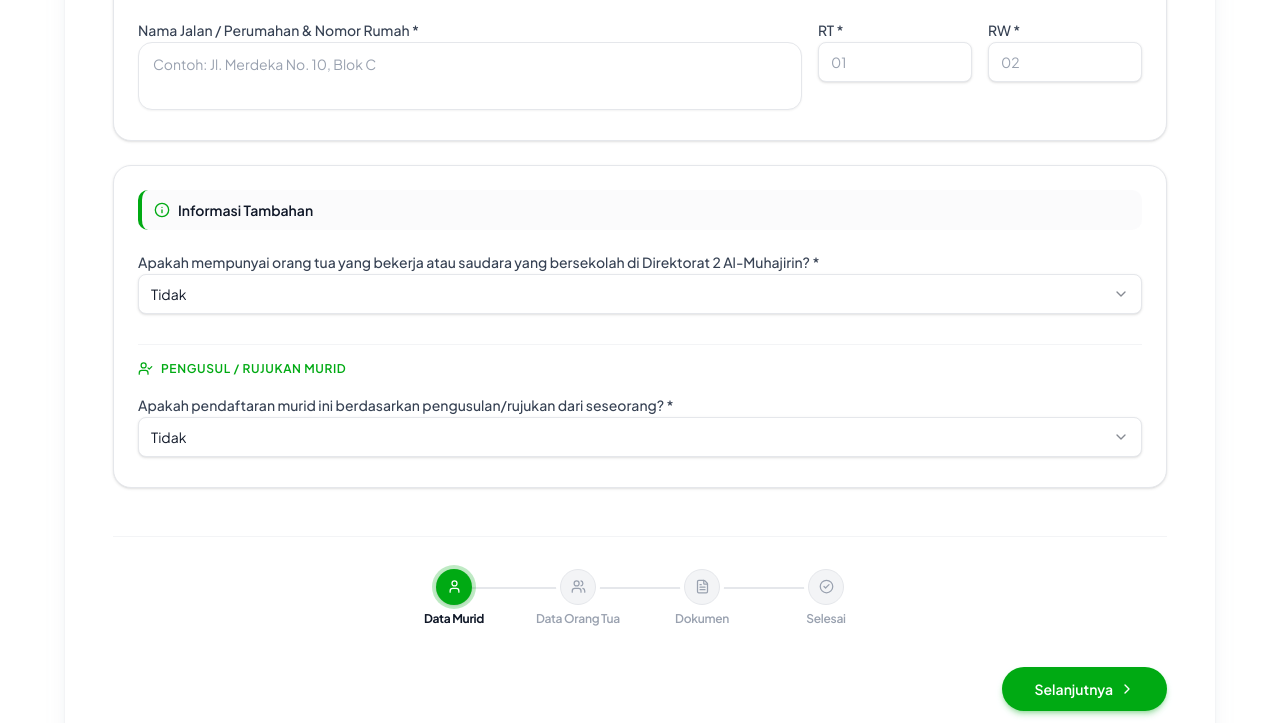
Test: RegistrationForm validation feedback › removes the date warning after a valid calendar date is selected
The width and height of the screenshot is (1280, 723).
(page scrolled)
Click the button "Selanjutnya": x=1085, y=688 1002,666 -> 1167,710
(page scrolled)
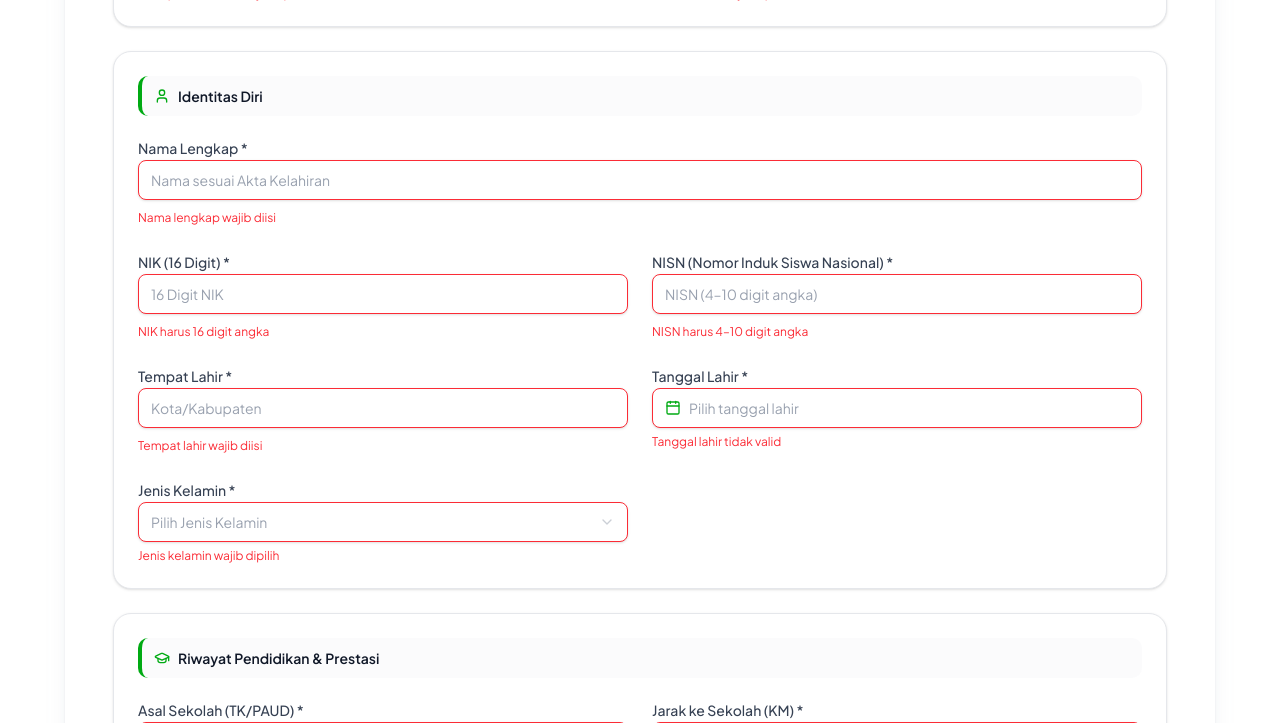
Check: the text "Tanggal lahir tidak valid" is shown, box 652,434 -> 781,449
Click the button "Pilih tanggal lahir": x=744, y=408 652,388 -> 1142,428
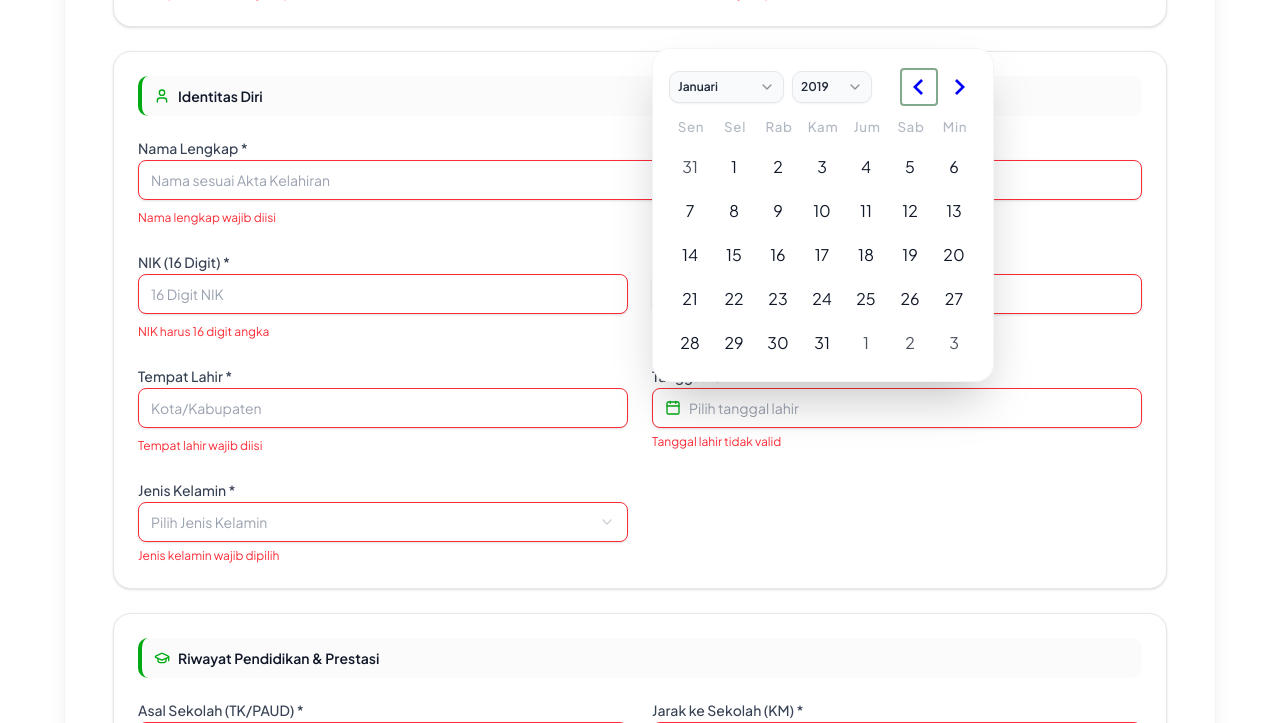
Click the button "11": x=866, y=211 845,190 -> 887,232
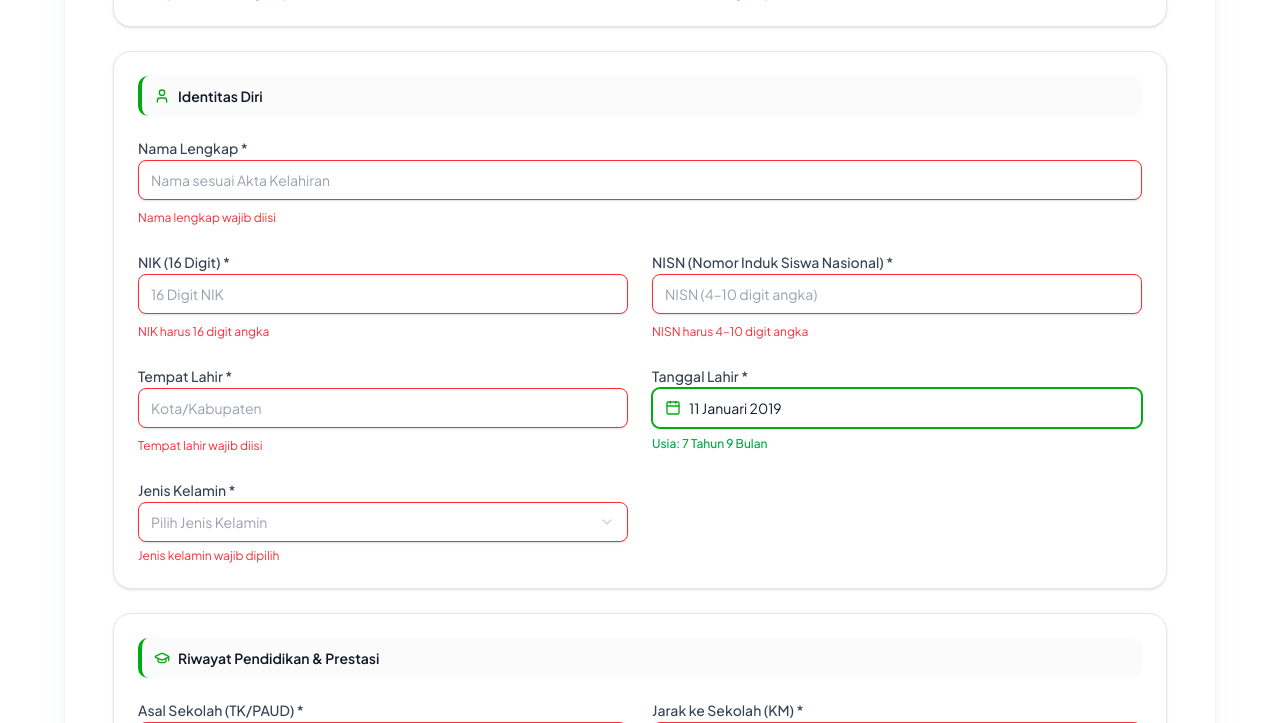
Check: the text "Tanggal lahir tidak valid" is gone
